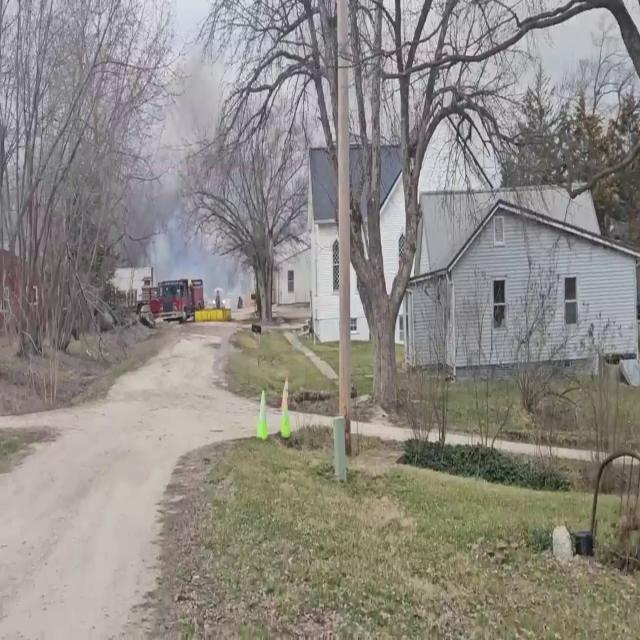Smoke: (141, 185, 241, 298)
